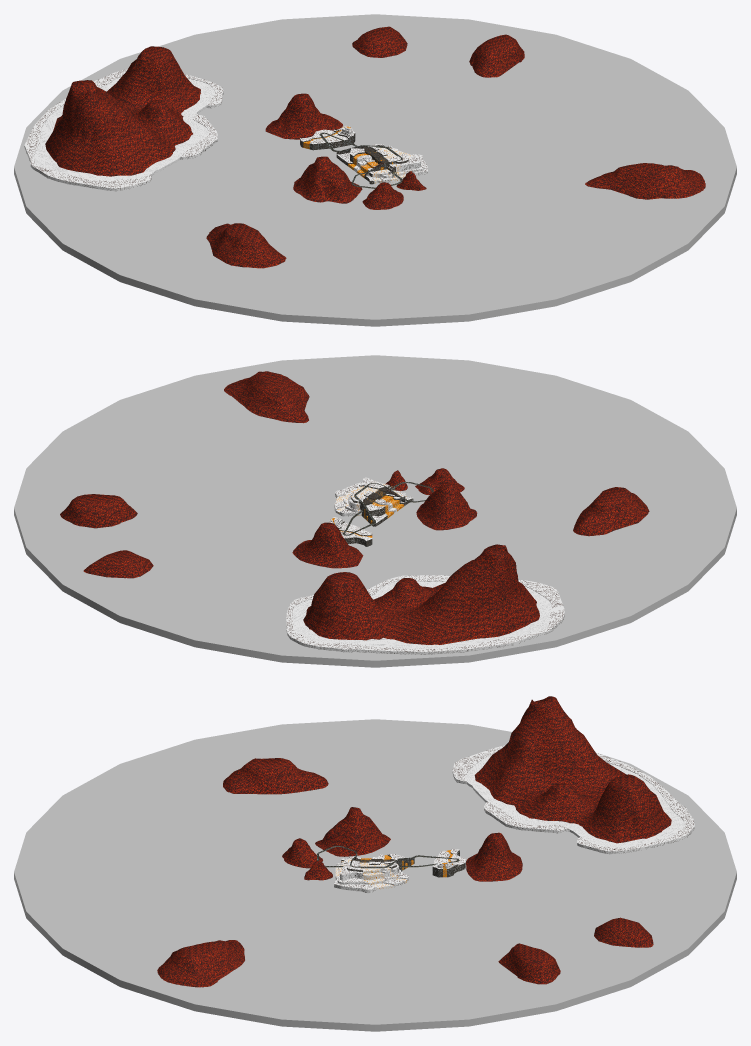
3 renders of one model, top to bottom at view 1: azimuth 30°, elevation 25°; view 2: azimuth 150°, elevation 25°; view 3: azimuth 270°, elevation 25°, orthographic.
Parts seen in each view (by area): view 1: SketchUp (×5), group_5, group_2, group_6, group_4, group_0, group_8, group_7, group_3; view 2: SketchUp (×5), group_5, group_2, group_6, group_0, group_8, group_4, group_7, group_3; view 3: SketchUp (×5), group_5, group_2, group_6, group_4, group_0, group_8, group_7, group_3.
Boxes of the visible parts, <box> form: SketchUp (×5): <box>14,14,736,326</box>; group_5: <box>45,46,200,176</box>; group_2: <box>585,163,705,199</box>; group_6: <box>206,223,286,268</box>; group_4: <box>293,156,362,203</box>; group_0: <box>265,93,342,139</box>; group_8: <box>469,34,524,77</box>; group_7: <box>352,26,407,57</box>; group_3: <box>362,182,403,209</box>; SketchUp (×5): <box>14,355,736,667</box>; group_5: <box>303,544,539,644</box>; group_2: <box>224,371,309,423</box>; group_6: <box>573,487,649,536</box>; group_0: <box>292,522,363,568</box>; group_8: <box>60,494,137,528</box>; group_4: <box>416,482,477,530</box>; group_7: <box>83,550,153,578</box>; group_3: <box>415,468,464,495</box>; SketchUp (×5): <box>14,719,736,1031</box>; group_5: <box>474,696,671,843</box>; group_2: <box>157,940,244,987</box>; group_6: <box>223,758,328,794</box>; group_4: <box>315,807,390,856</box>; group_0: <box>466,832,522,881</box>; group_8: <box>498,943,560,984</box>; group_7: <box>594,917,653,947</box>; group_3: <box>282,838,322,868</box>.
Size of the model in its own units: 166633 by 166633 by 19705.
